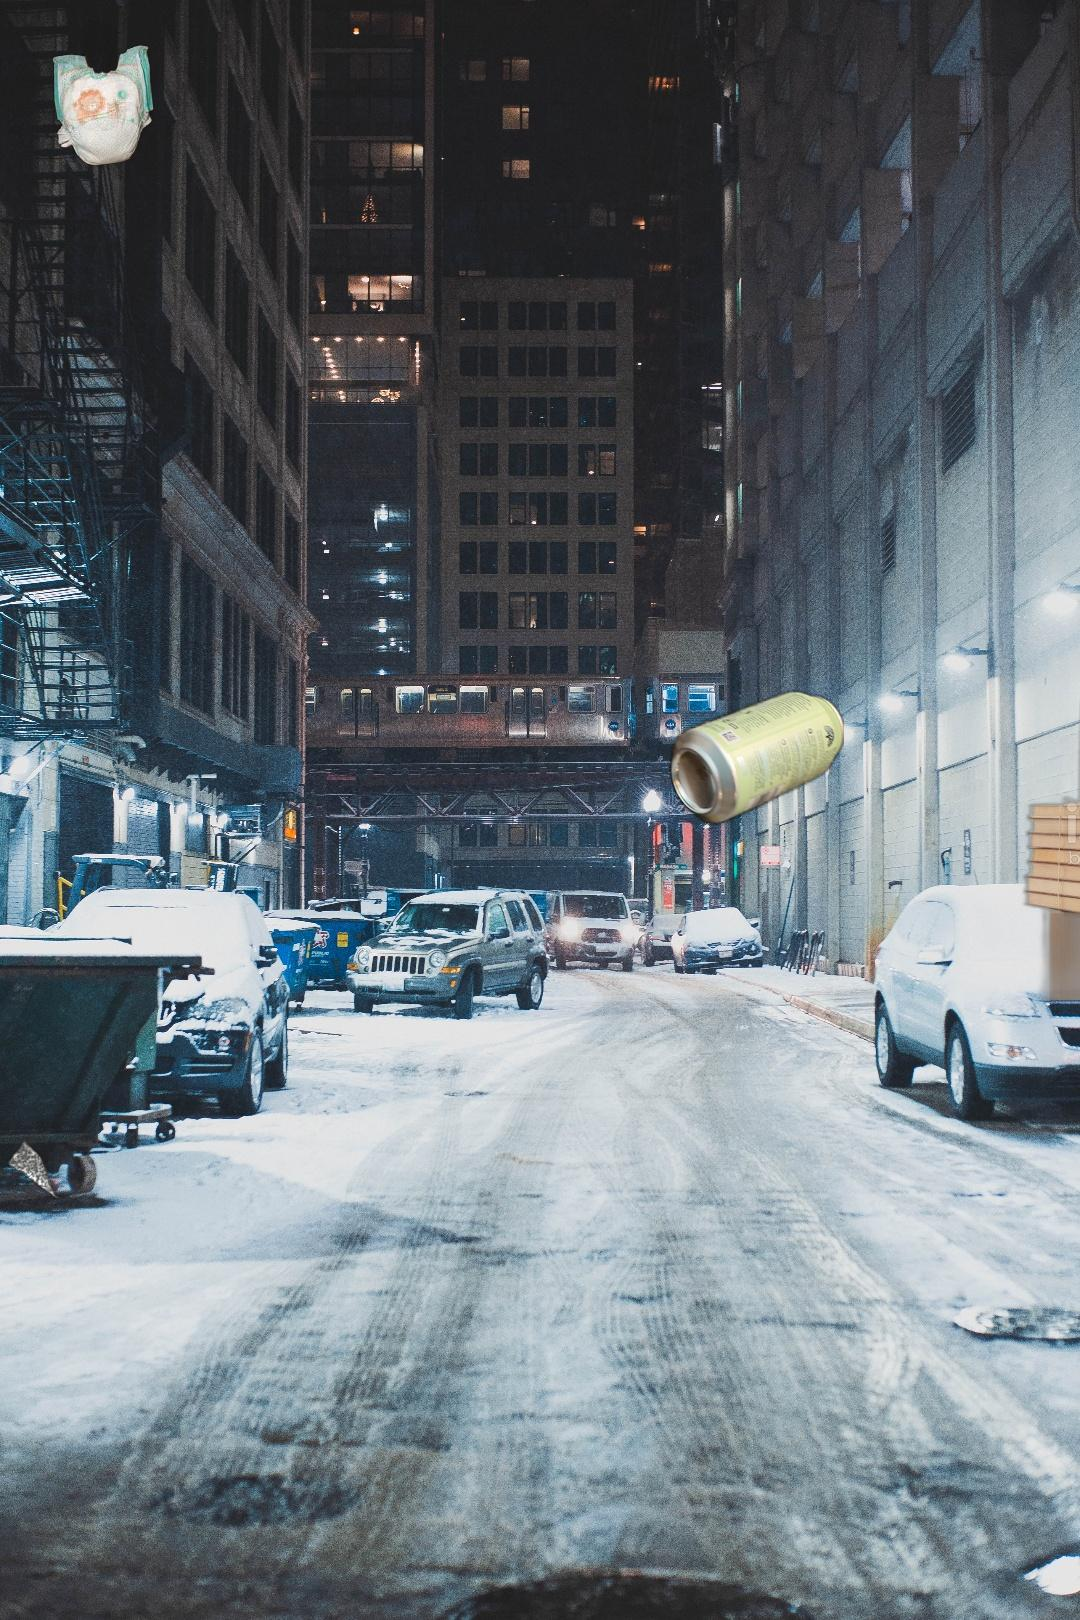metal-cans: (331, 656, 844, 1187)
paper: (4, 1129, 74, 1202)
trash: (49, 2, 155, 168)
trashbox-cardboard: (1017, 594, 1080, 1000)
